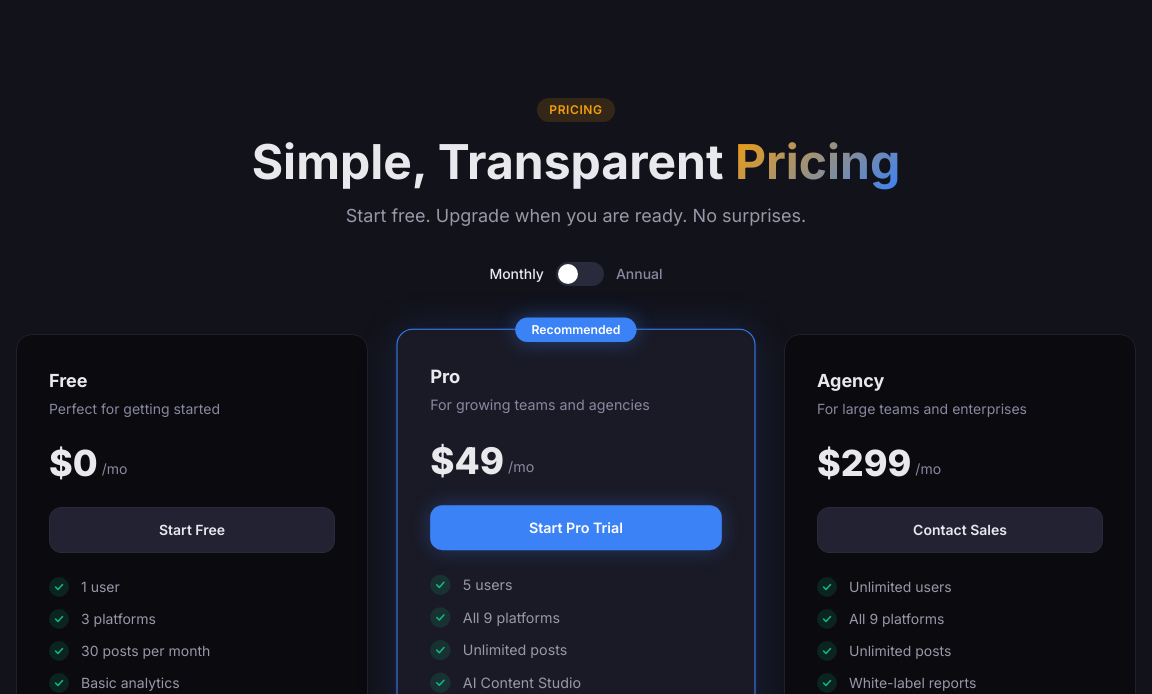
Test: PricingSection › monthly/annual toggle › toggles back to monthly prices on second click
Click the button named "Toggle annual pricing" at (580, 274), box [556,262,604,286]
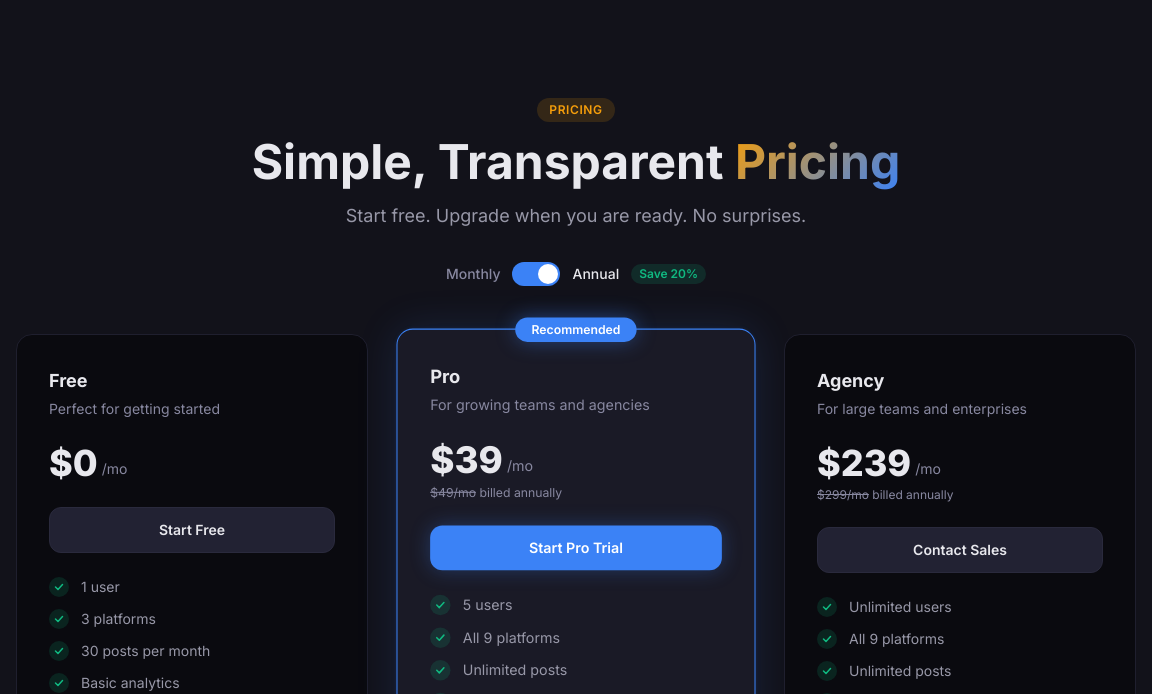
Click the button named "Toggle annual pricing" at (536, 274), box [512,262,560,286]
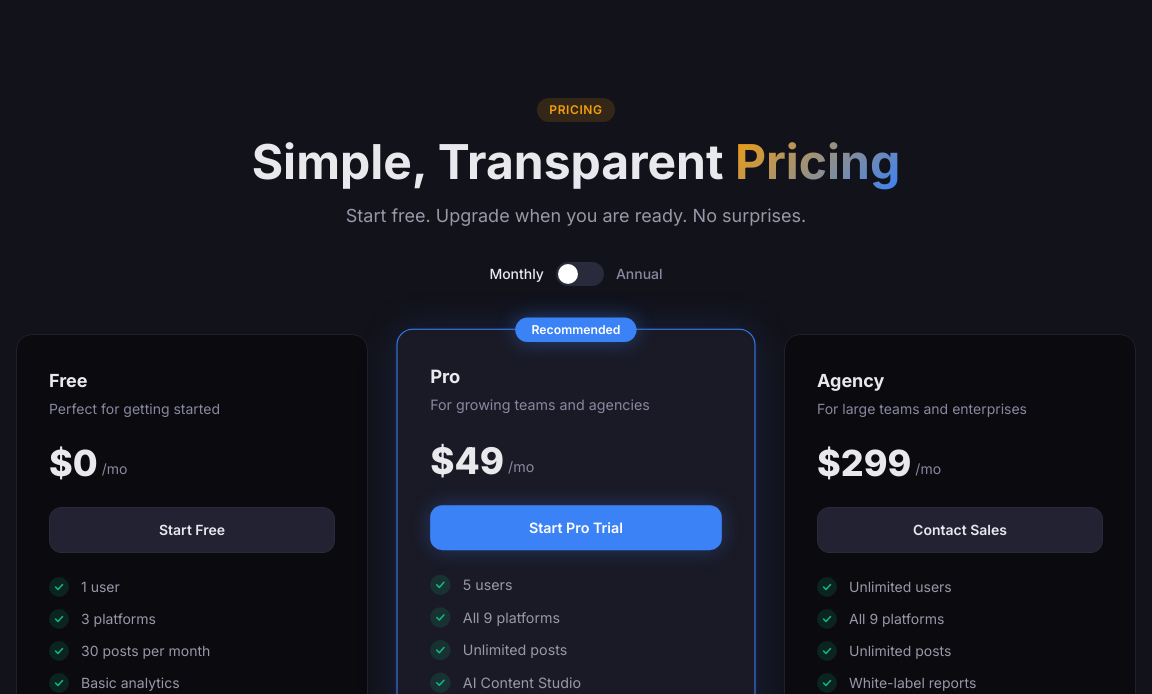
Now the text "$49" is shown, box [430,440,504,481]
Now the text "$299" is shown, box [817,443,911,483]
Now the text "Save 20%" is gone
